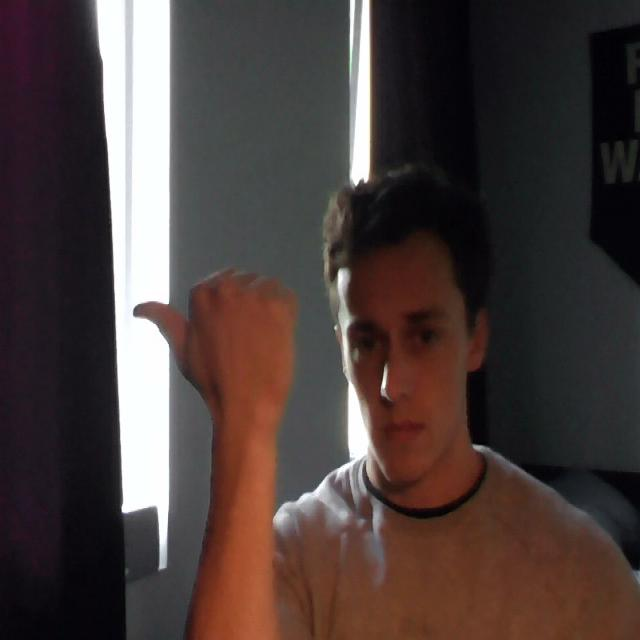left: (120, 244, 317, 441)
